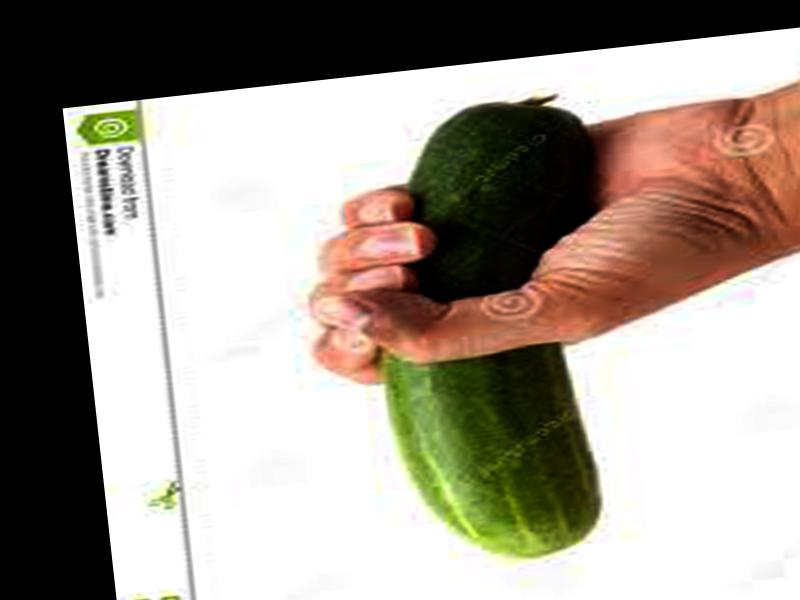Cucumber: (351, 96, 631, 573)
